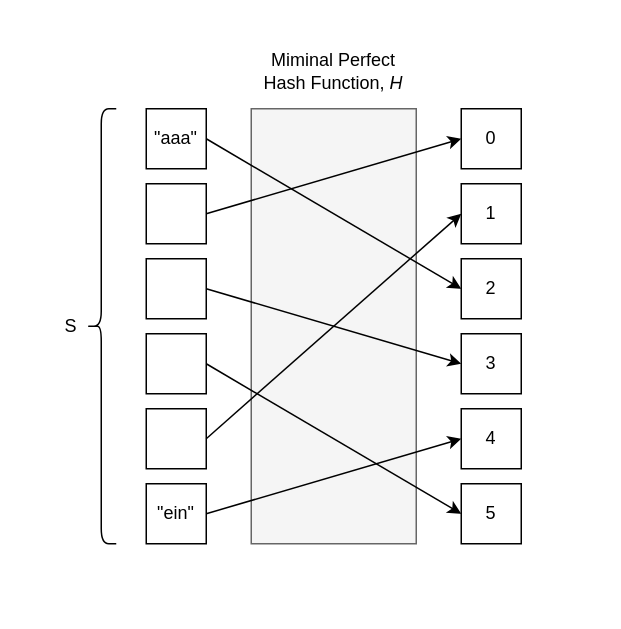
The diagram is 621 pixels wide and 629 high, and some of its shapes have lost their labels. Each missing label, with the box of its shape:
"abc": (145, 182, 206, 244)
"ae": (145, 257, 206, 319)
"kli": (145, 407, 206, 469)
"ob": (145, 332, 206, 394)
